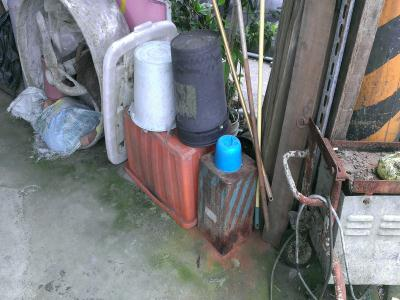bowl: (213, 133, 244, 175)
box: (123, 109, 220, 230)
bucket: (169, 29, 229, 146), (126, 38, 179, 135)
plastic_bag: (33, 98, 99, 152)
plate: (320, 137, 400, 196)
